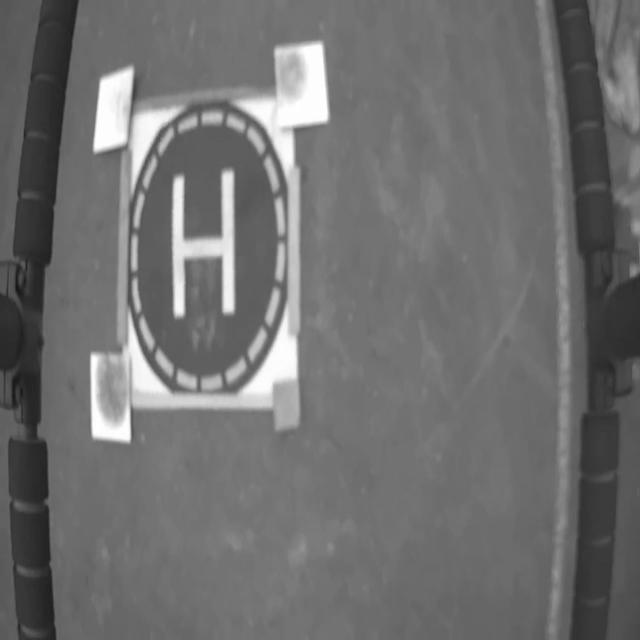Helipad: (172, 168, 236, 315)
